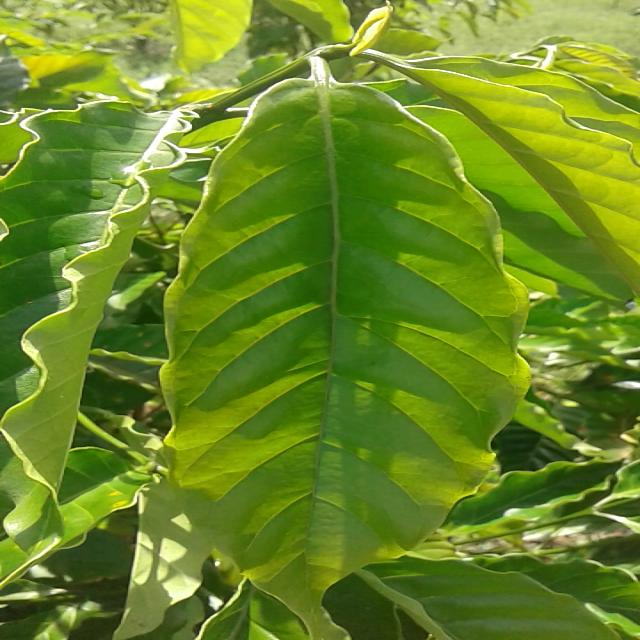Sanas: (157, 79, 532, 619)
